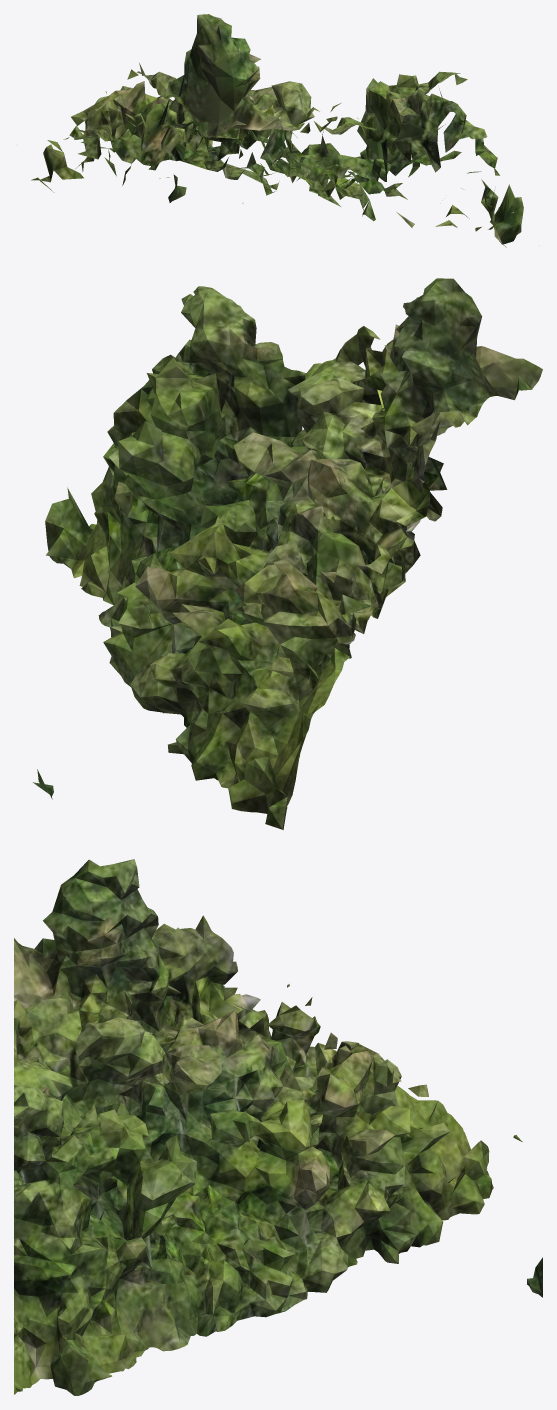
3 renders of one model, top to bottom at view 1: azimuth 30°, elevation 25°; view 2: azimuth 150°, elevation 25°; view 3: azimuth 270°, elevation 25°, orthographic. The views are drawn at different scales.
Size of the model in its own units: 48.41 by 38.28 by 52.22.
5 materials, 5 textured.
